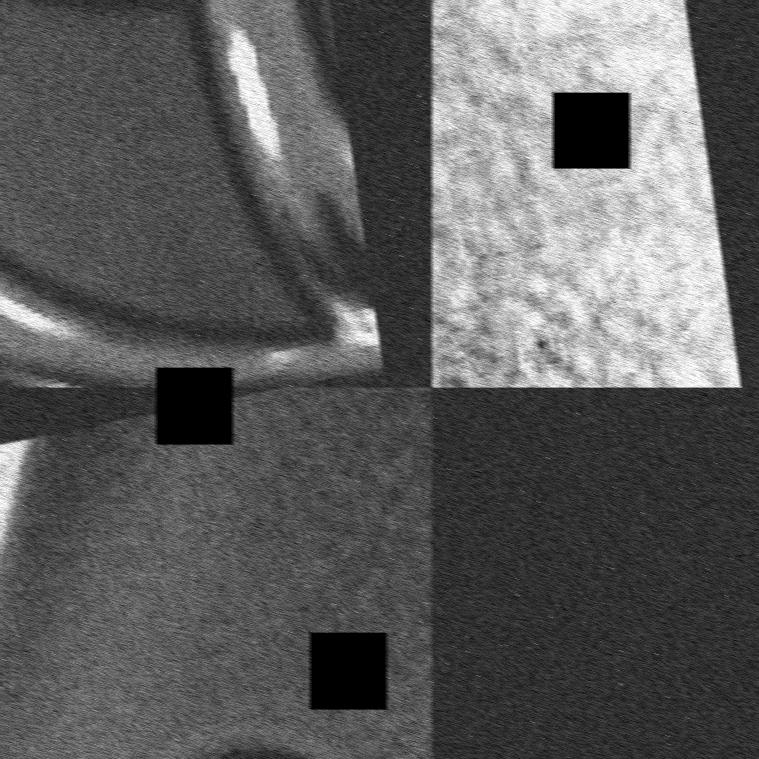Airbag: (0, 0, 432, 387), (0, 387, 432, 759), (431, 0, 759, 387)
